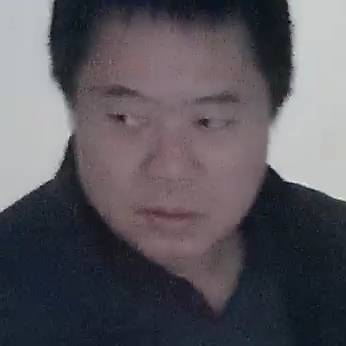caibo: (74, 13, 273, 266)
